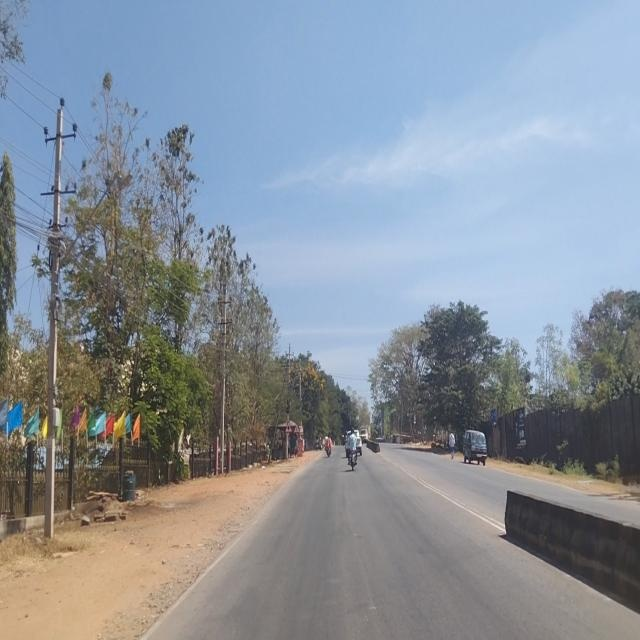bien_nguy_hiem: (285, 420, 292, 434), (293, 422, 300, 434)
